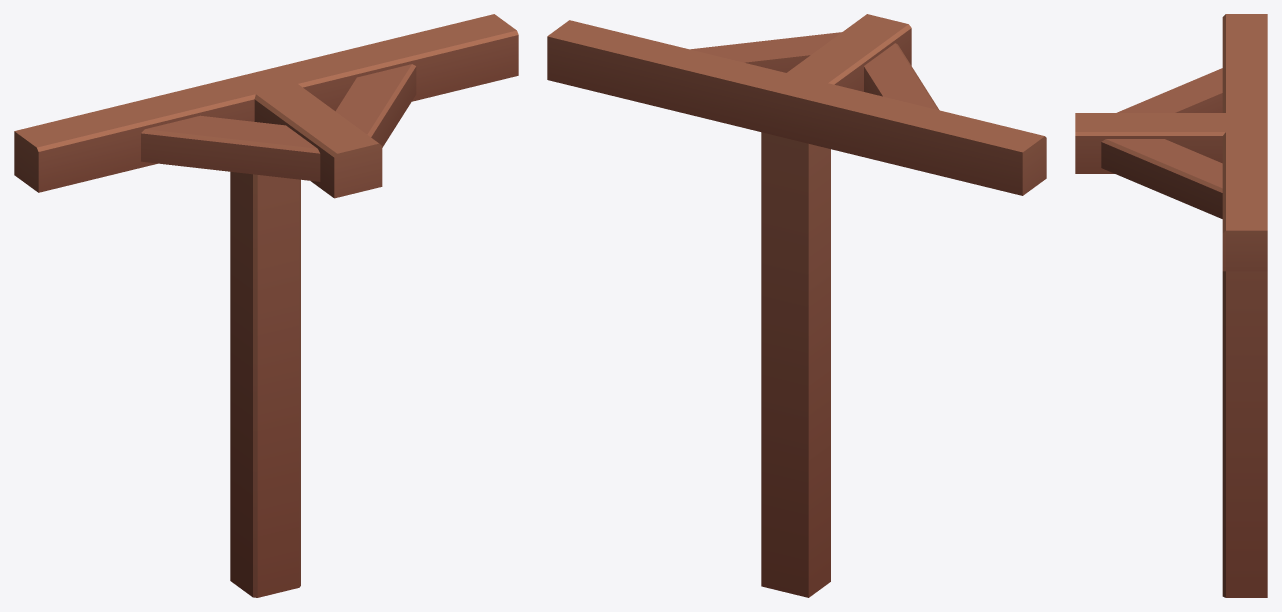
File: scaffold_pillar_wall_cross_top.glb
3 views of the same model, side by side, from view 1: azimuth 30°, elevation 25°; view 2: azimuth 150°, elevation 25°; view 3: azimuth 270°, elevation 25° (orthographic). The views are drawn at different scales.
Parts seen in each view (by area): view 1: scaffold_pillar_wall_cross_top; view 2: scaffold_pillar_wall_cross_top; view 3: scaffold_pillar_wall_cross_top.
Part boxes in pixels (x1=…): scaffold_pillar_wall_cross_top: x1=14, y1=14, x2=518, y2=597; scaffold_pillar_wall_cross_top: x1=547, y1=14, x2=1046, y2=597; scaffold_pillar_wall_cross_top: x1=1075, y1=14, x2=1267, y2=597.
Size of the model in its own units: 4 by 4 by 1.5.
1 material, 1 textured.
